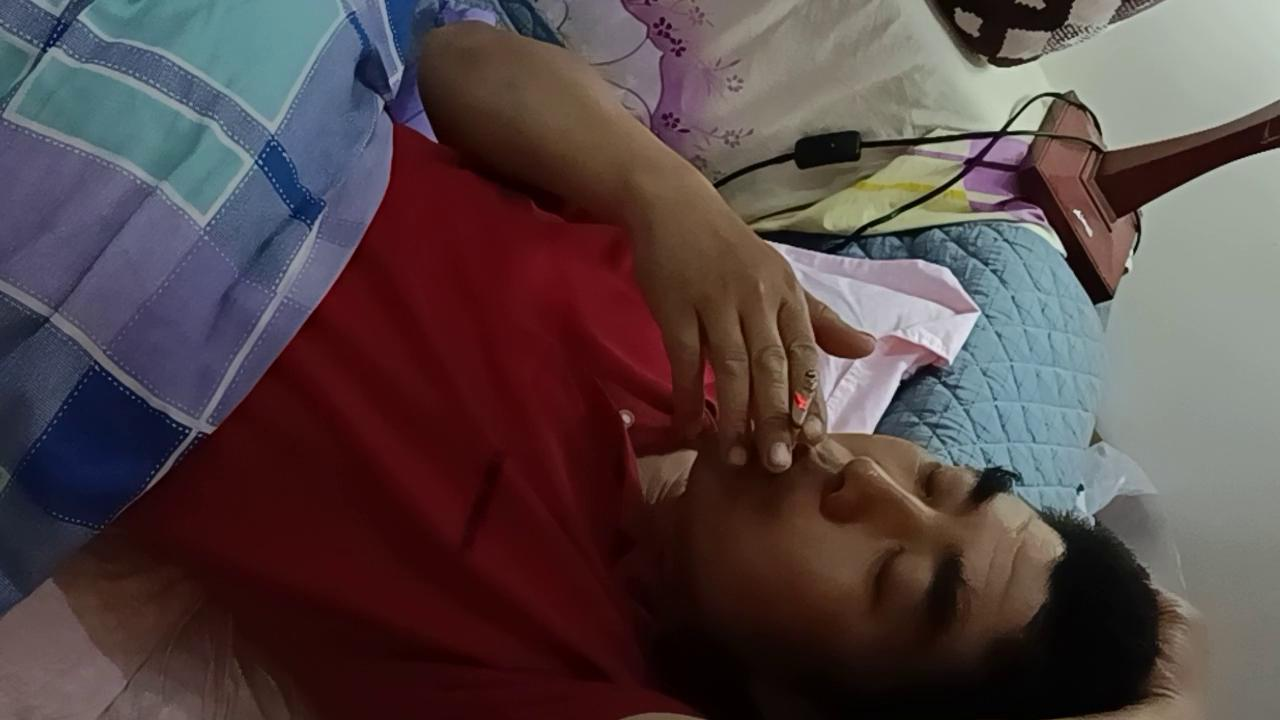smoke: (781, 368, 820, 455)
